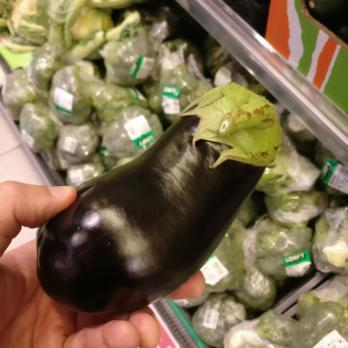Brinjal: (34, 79, 282, 311)
